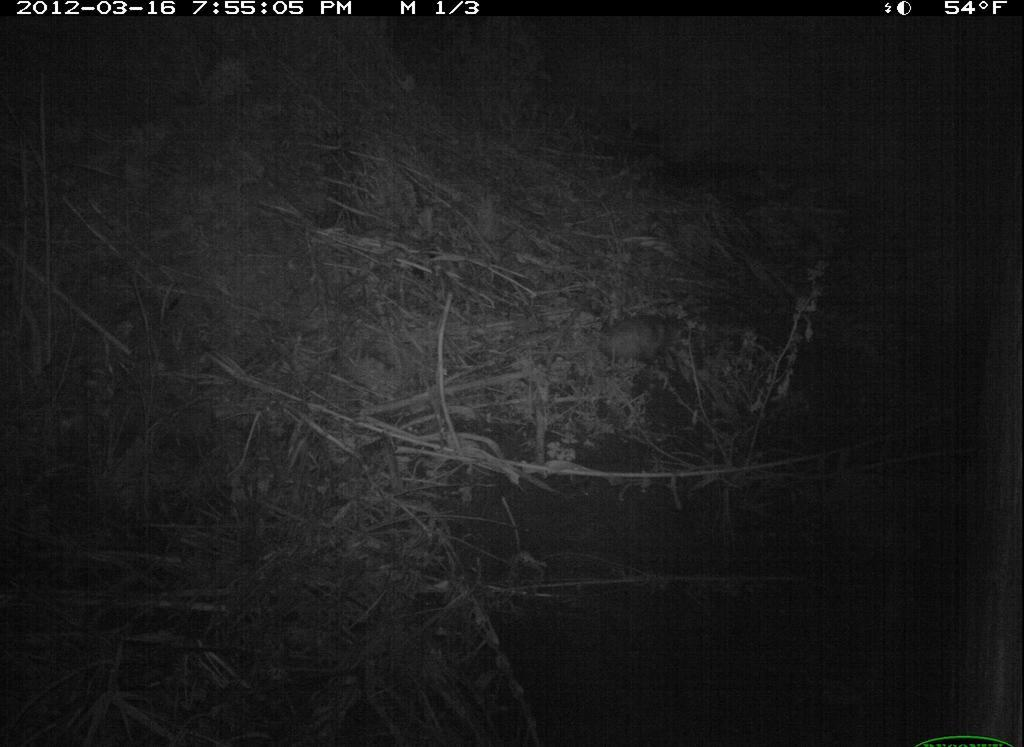opossum: (594, 310, 686, 372)
